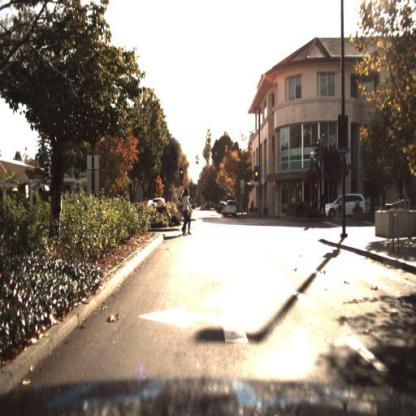car: (321, 192, 369, 221), (326, 191, 368, 215), (224, 196, 239, 221), (225, 200, 240, 218)
pedestrian: (178, 189, 192, 236), (181, 187, 191, 240), (249, 197, 257, 222)
trafficLight-Green: (179, 166, 186, 180)
trafficLight-Red: (254, 168, 262, 183)
trafficLight-Yellow: (253, 167, 259, 184), (179, 165, 185, 181)
